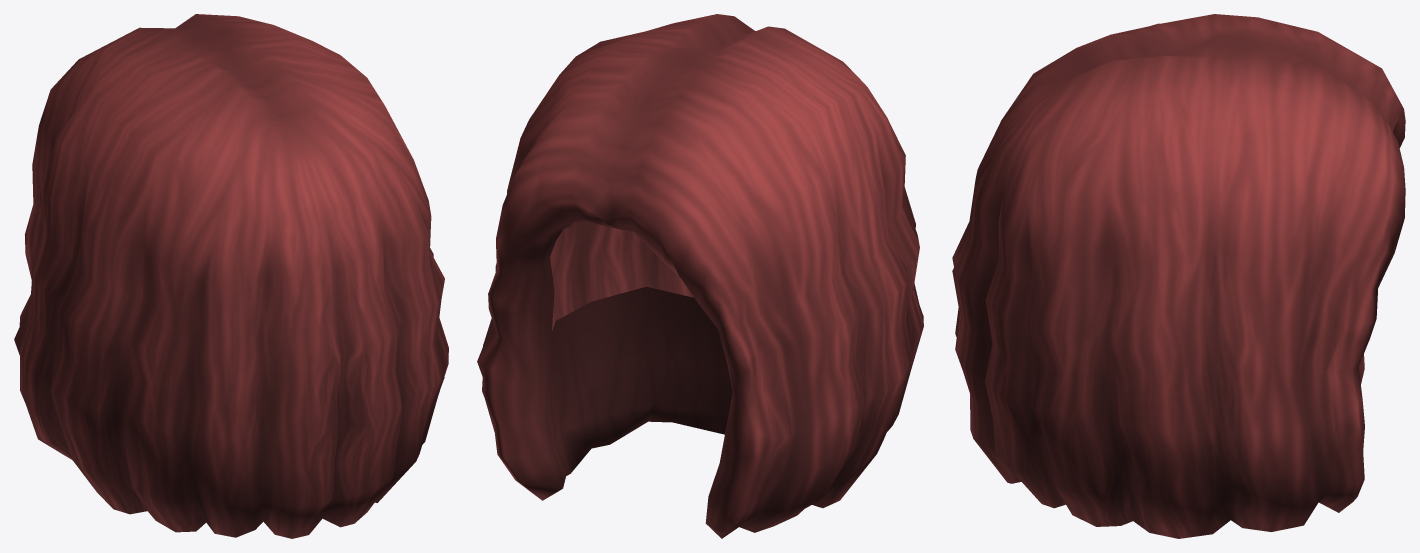
The model's file is Hair_Female_006_textured_red.glb.
3 renders of one model, left to right at view 1: azimuth 30°, elevation 25°; view 2: azimuth 150°, elevation 25°; view 3: azimuth 270°, elevation 25°, orthographic. The views are drawn at different scales.
Parts seen in each view (by area): view 1: Hair_Female_006; view 2: Hair_Female_006; view 3: Hair_Female_006.
Boxes of the visible parts, x1,y1,x2,y2 form: Hair_Female_006: (14, 14, 448, 538); Hair_Female_006: (477, 14, 923, 538); Hair_Female_006: (952, 14, 1405, 538).
Bounding box in the file's own units: 0.2471 × 0.277 × 0.2597.
1 material, 1 textured.
